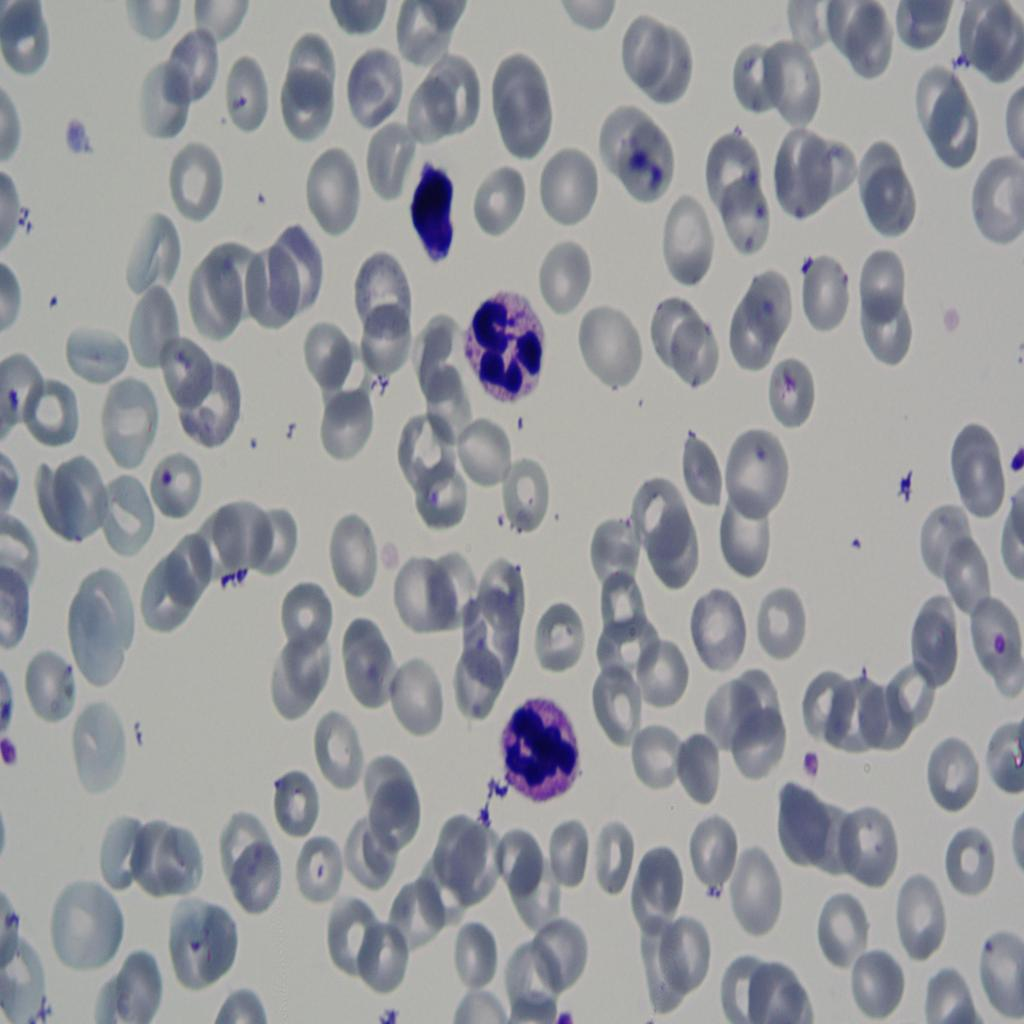Myeoblast: (402, 152, 464, 260)
Neutrofil: (480, 698, 606, 815), (454, 276, 544, 406)
Platelet: (742, 431, 772, 478), (796, 733, 823, 785), (895, 461, 921, 513), (151, 460, 181, 498), (0, 724, 22, 772), (622, 136, 644, 174), (646, 161, 668, 183)
